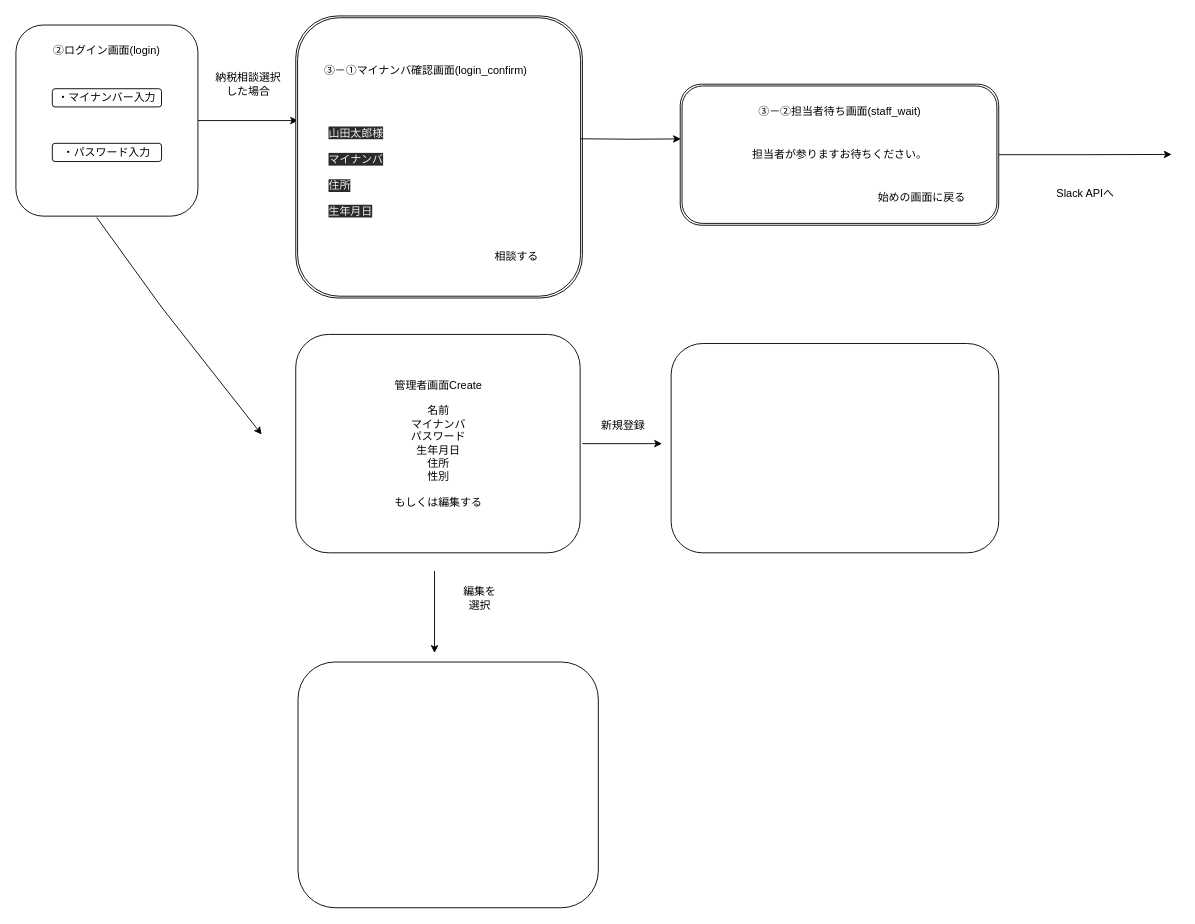
This 1195x924 diagram has some shape labels left out. Each missing label, with the centre of its shape:
"確認画面" goes at [834,448].
"編集する人を選択して選ぶ" goes at [447,784].
